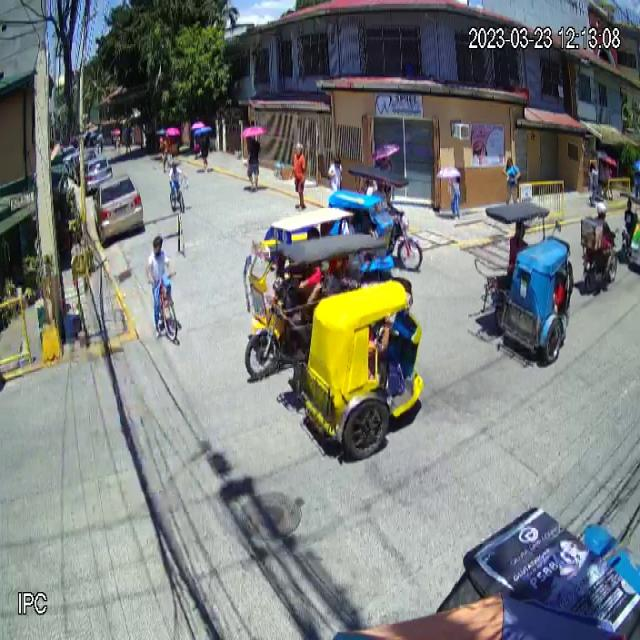Tricycle: (280, 232, 425, 458), (474, 200, 576, 365)
